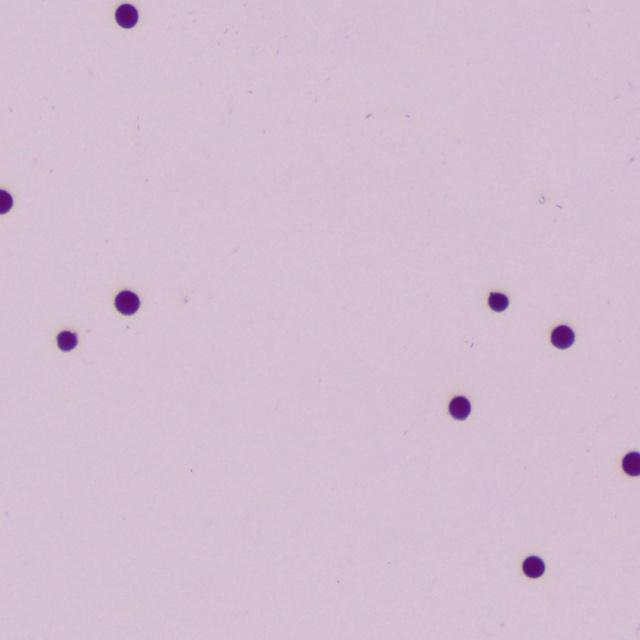viable: (115, 290, 139, 314), (115, 4, 137, 28), (522, 556, 544, 578), (553, 325, 574, 348), (449, 396, 470, 419), (57, 330, 77, 351), (488, 292, 508, 311), (624, 451, 639, 475), (0, 190, 12, 213)
